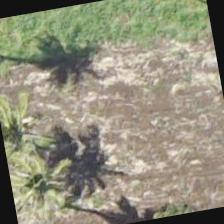Kelapa_Sawit: (0, 95, 75, 195), (6, 144, 98, 223), (0, 13, 44, 101), (138, 0, 212, 41)
